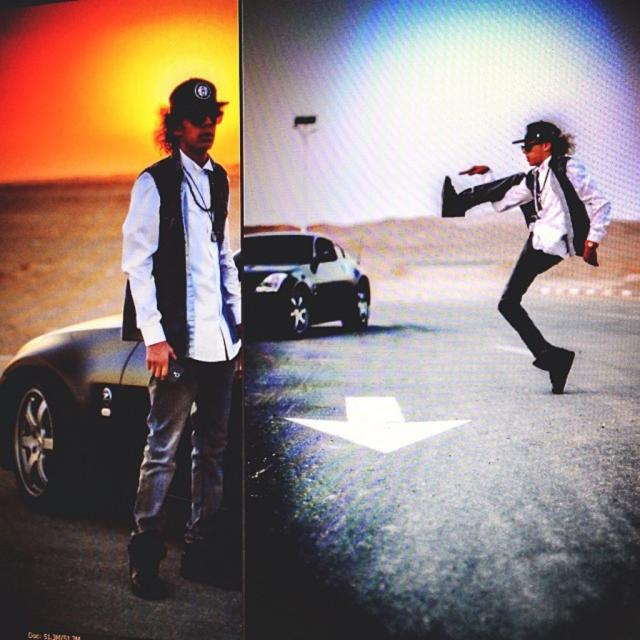car: (232, 224, 389, 337)
